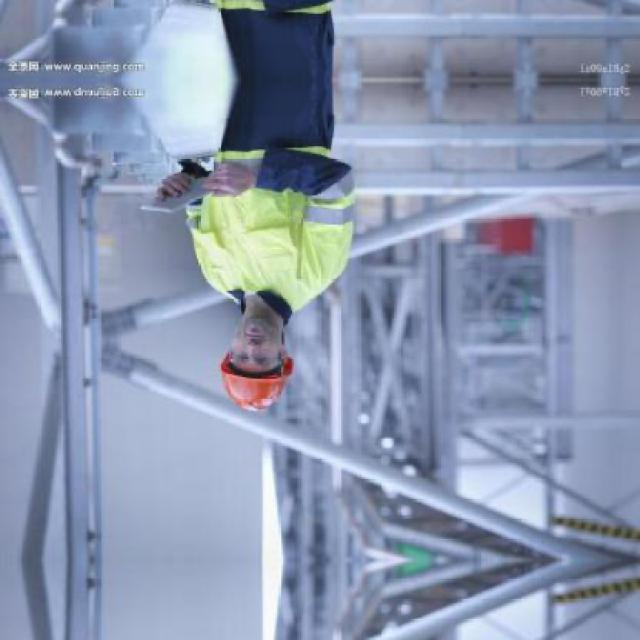con casco: (200, 322, 328, 443)
